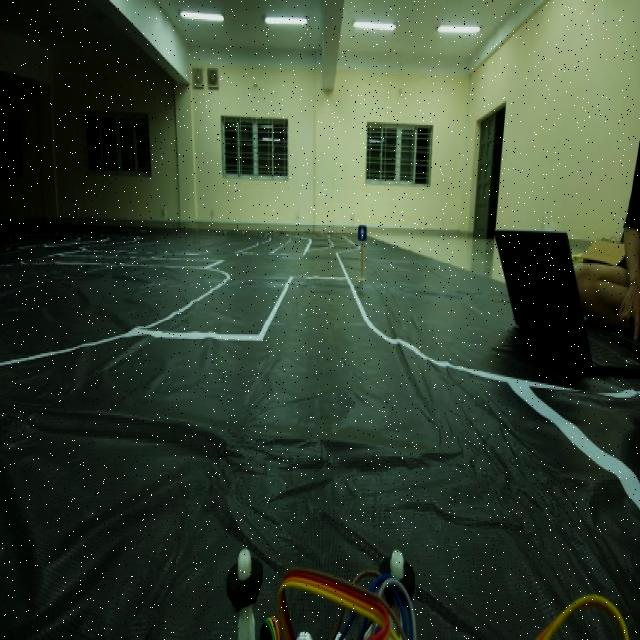onewayroad: (354, 220, 370, 250)
